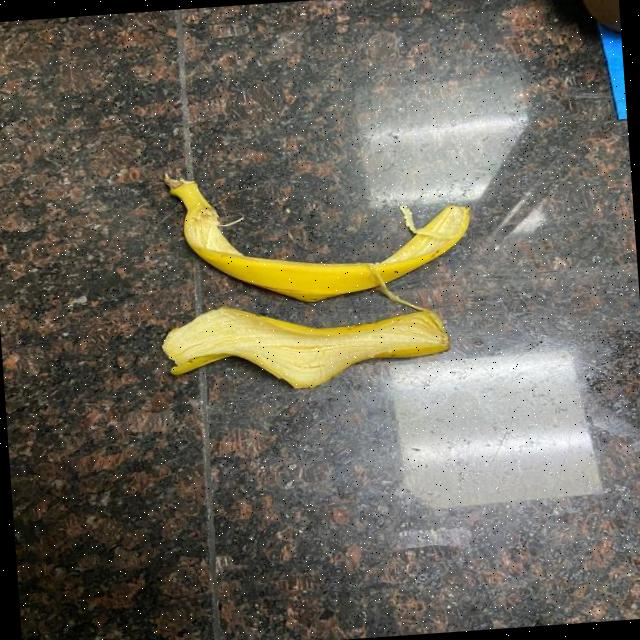banana-peel: (160, 150, 477, 312), (158, 289, 452, 399)
